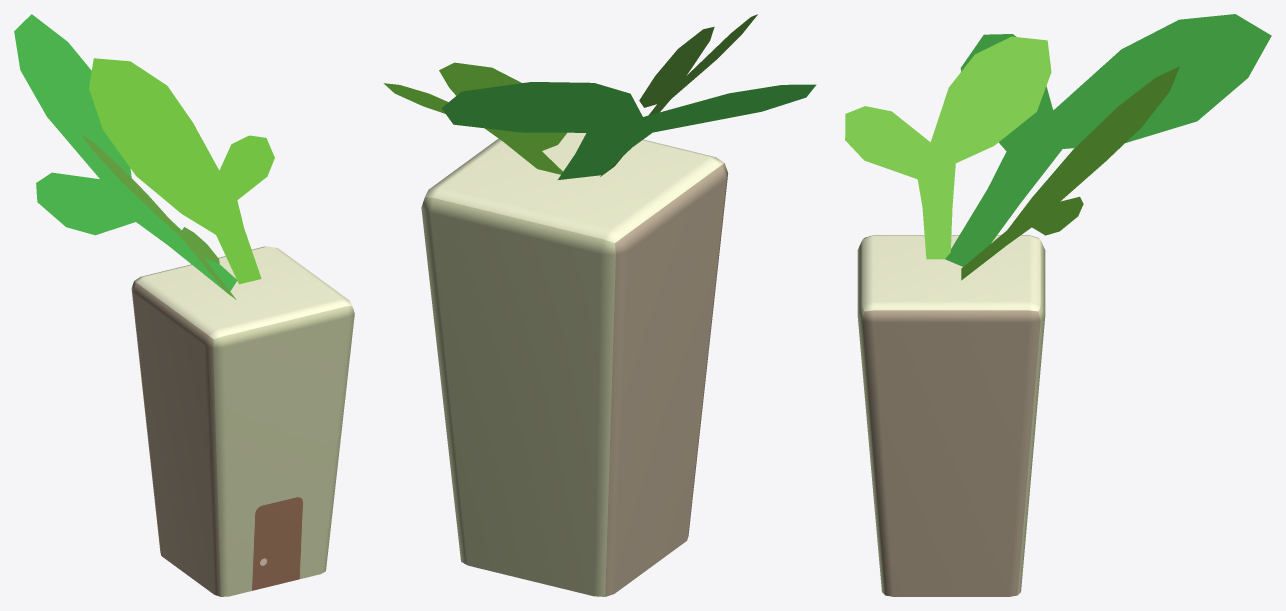
Rendered from houseRadish.fbx.
The picture shows the model from 3 angles, left to right: view 1: azimuth 30°, elevation 25°; view 2: azimuth 150°, elevation 25°; view 3: azimuth 270°, elevation 25°; orthographic projection. The views are drawn at different scales.
Parts seen in each view (by area): view 1: body, leaf3, leaf2, leaf1; view 2: body, leaf2, leaf3, leaf1; view 3: body, leaf2, leaf1, leaf3.
Part boxes in pixels (x1=…): body: x1=131, y1=246, x2=354, y2=596; leaf3: x1=89, y1=58, x2=274, y2=284; leaf2: x1=14, y1=14, x2=237, y2=293; leaf1: x1=80, y1=134, x2=236, y2=299; body: x1=421, y1=132, x2=728, y2=596; leaf2: x1=441, y1=82, x2=816, y2=180; leaf3: x1=383, y1=62, x2=566, y2=174; leaf1: x1=600, y1=14, x2=757, y2=176; body: x1=857, y1=235, x2=1045, y2=596; leaf2: x1=945, y1=14, x2=1271, y2=266; leaf1: x1=845, y1=36, x2=1051, y2=259; leaf3: x1=961, y1=66, x2=1179, y2=280.
Size of the model in its own units: 13.89 by 22.37 by 17.27.
